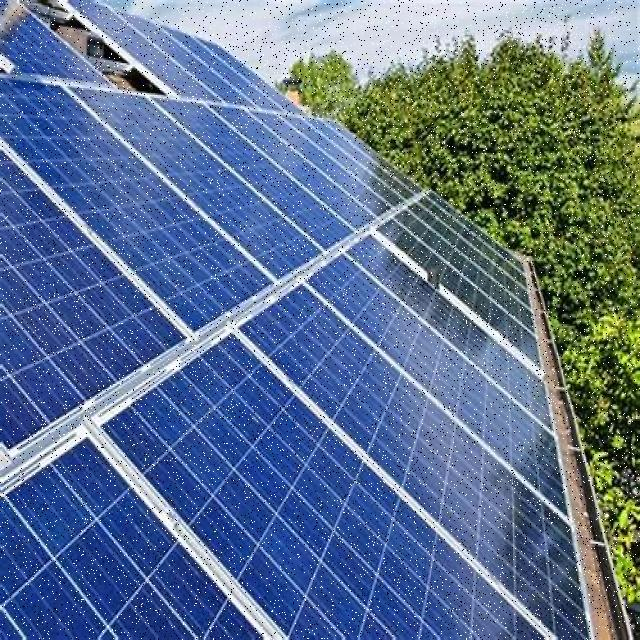clean: (9, 0, 577, 640), (0, 3, 115, 85)
